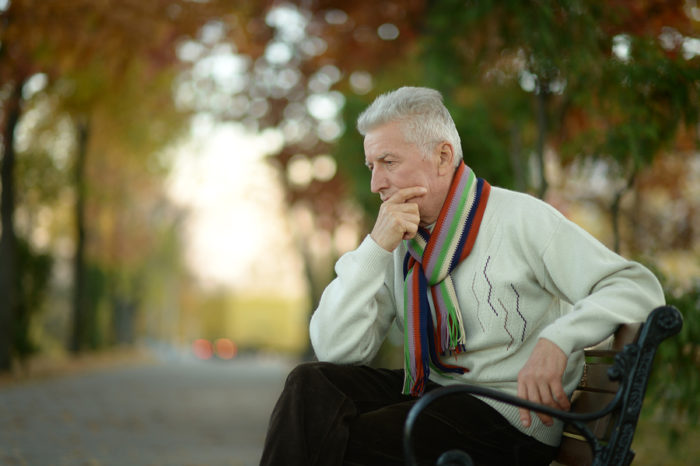Person: (242, 78, 661, 466)
